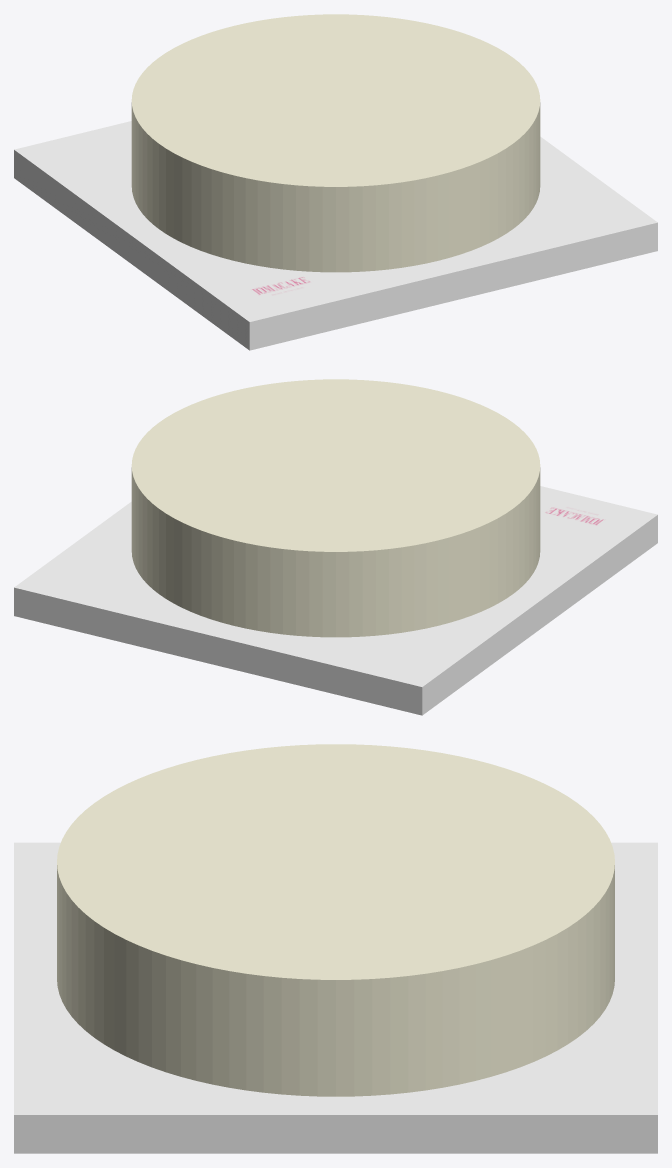
File: cake_10in_layers2_v33.glb
3 renders of one model, top to bottom at view 1: azimuth 30°, elevation 25°; view 2: azimuth 150°, elevation 25°; view 3: azimuth 270°, elevation 25°, orthographic. The views are drawn at different scales.
Visible parts, largest first — view 1: Cake, Board, Logo; view 2: Cake, Board, Logo; view 3: Cake, Board.
Boxes of the visible parts, box(x1,y1,x2,y2) form: Cake: box(131, 14, 540, 272); Board: box(14, 121, 657, 350); Logo: box(241, 272, 324, 302); Cake: box(131, 379, 540, 637); Board: box(14, 486, 657, 715); Logo: box(540, 500, 618, 529); Cake: box(57, 744, 614, 1096); Board: box(14, 842, 657, 1153).
Size of the model in its own units: 0.3 by 0.08 by 0.3.
